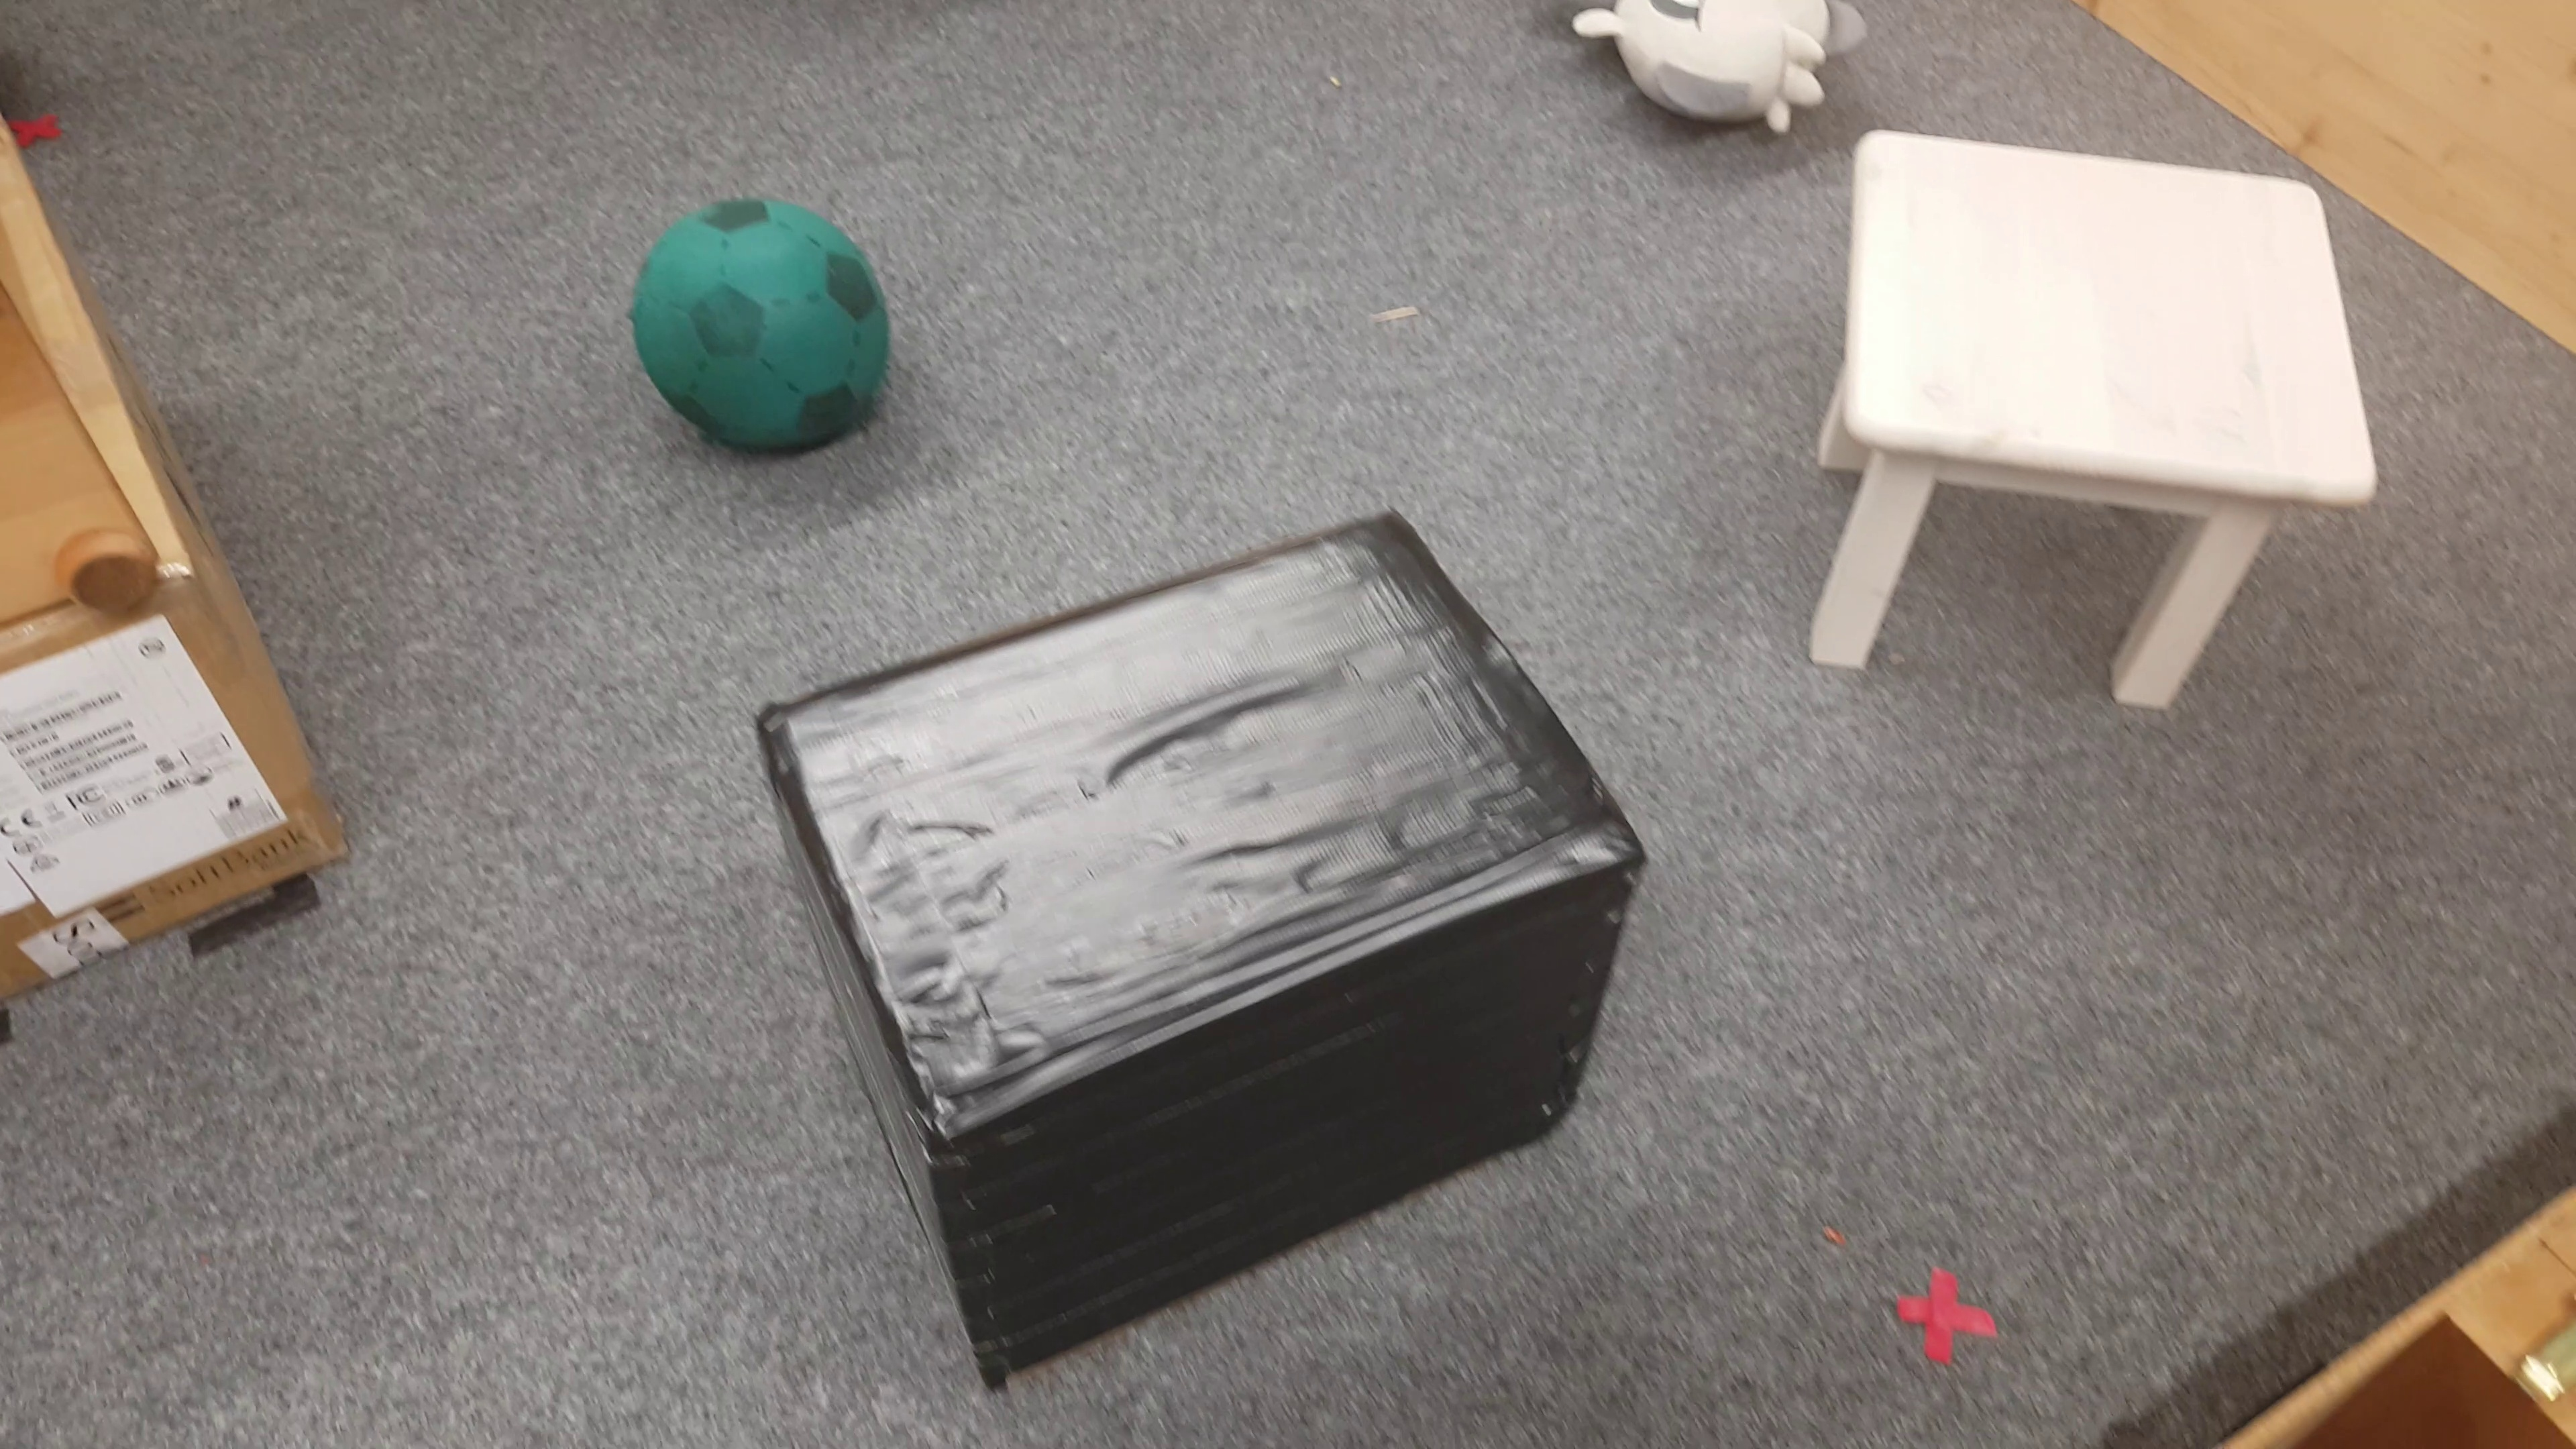grasp: (1562, 5, 1875, 140)
kick: (637, 200, 895, 455)
push: (773, 513, 1647, 1373)
